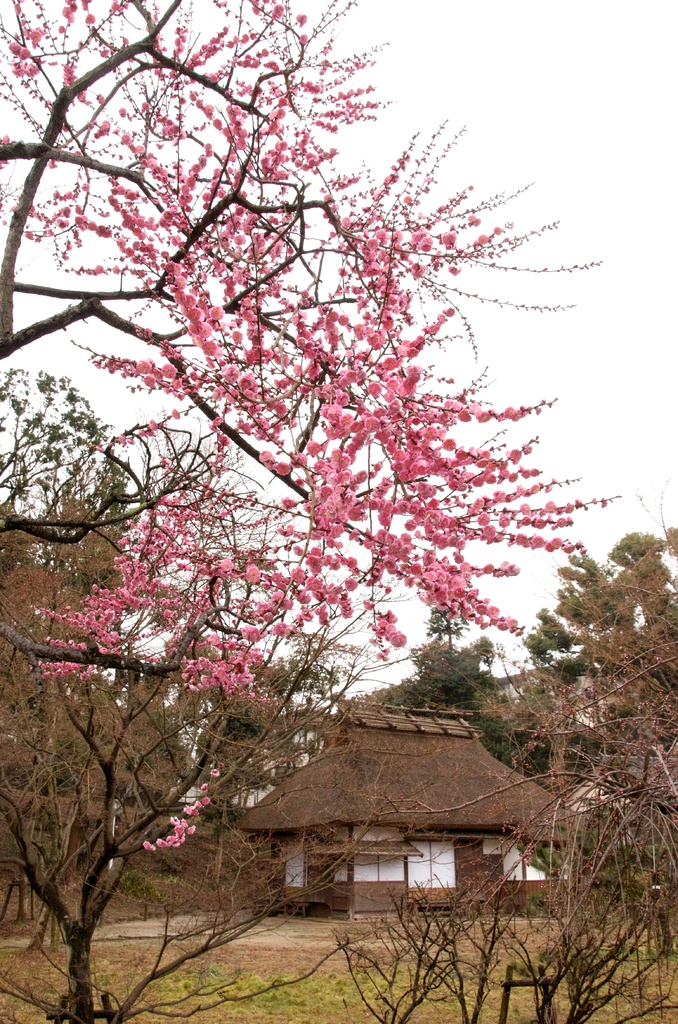Tree: (0, 0, 619, 1023), (500, 436, 662, 954)
